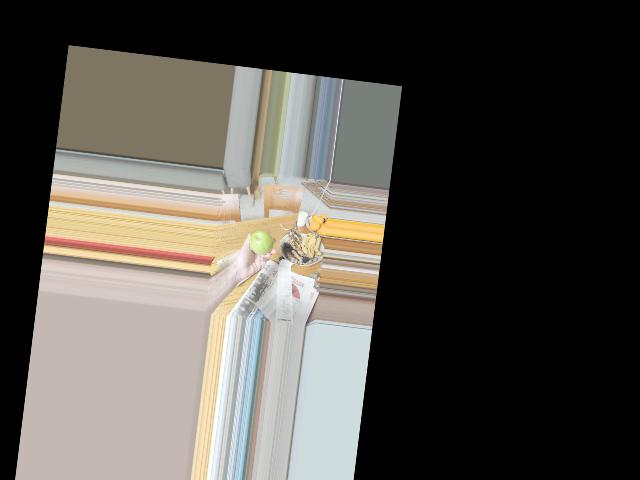apple: (247, 227, 275, 255)
